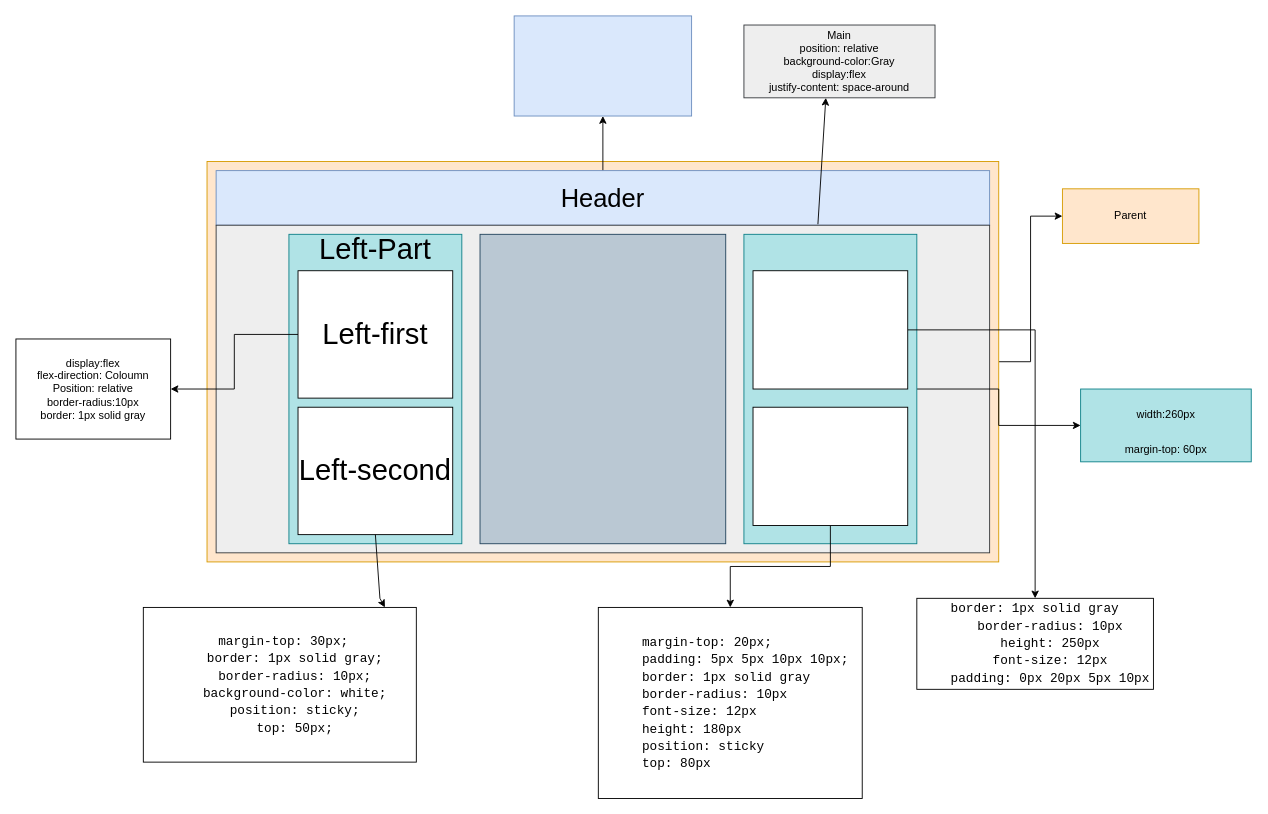
Image size: 1268x814. Some labels were removed from this diagram. Each missing label, with the box of its shape:
Center-Part Main: (479, 233, 726, 544)
Header position: fixed z-index:1 display:flex justify-content: space-around: (513, 15, 692, 116)
Right-First: (752, 270, 908, 389)
Right-Part: (743, 233, 917, 544)
Right-second: (752, 406, 908, 526)
